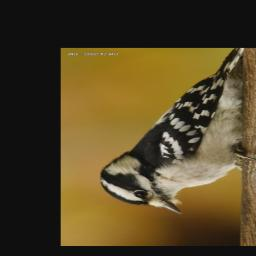Woodpecker: (98, 48, 255, 214)
